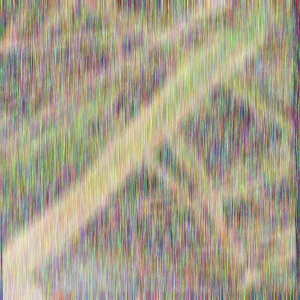Leaf_Blast: (110, 63, 202, 176)
